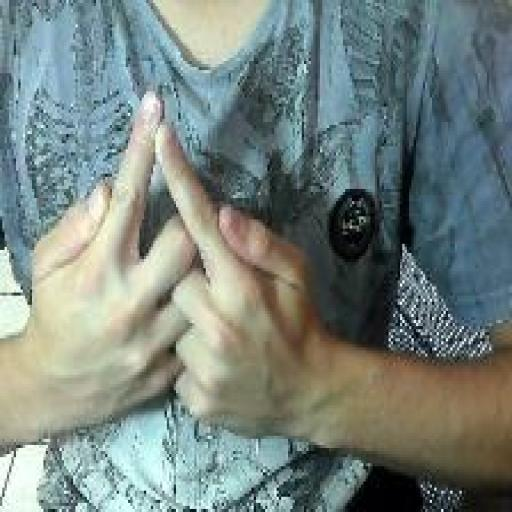Uma -horse-: (25, 84, 320, 452)
